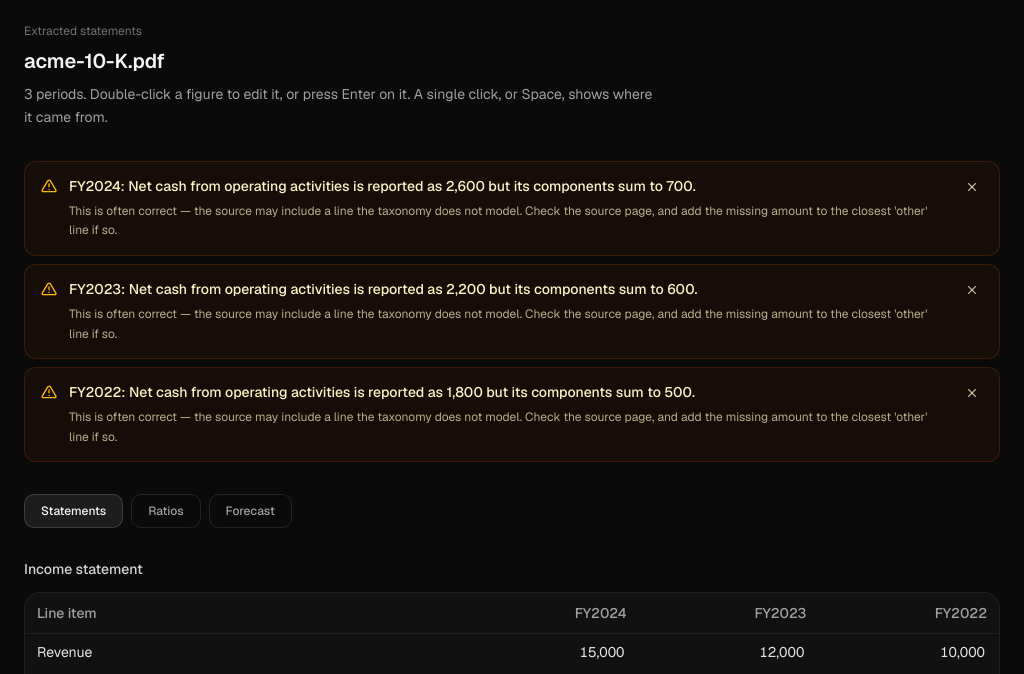
it: what the forecast's own findings say › lets an info finding be dismissed, which nothing could reach before
The width and height of the screenshot is (1024, 674).
Click the tab "Forecast" at (250, 511), box [209,494,292,528]
(page scrolled)
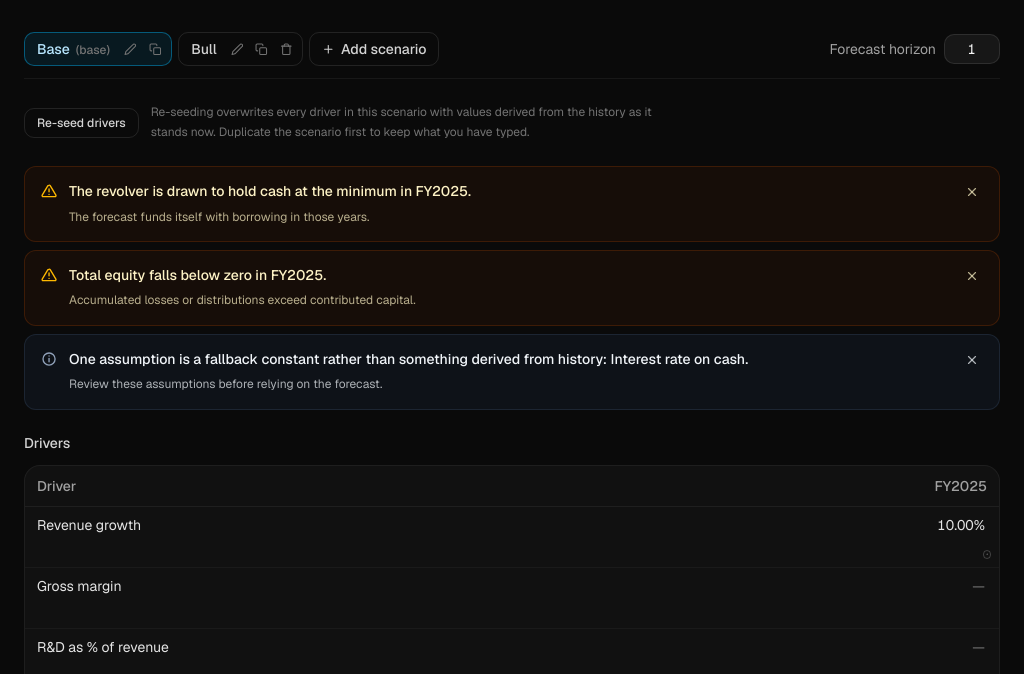
expect the text "One assumption is a fallback constant" is shown: met, box [69,350,748,368]
Click the 3rd button named "Dismiss" at (972, 360), box [961,349,983,371]
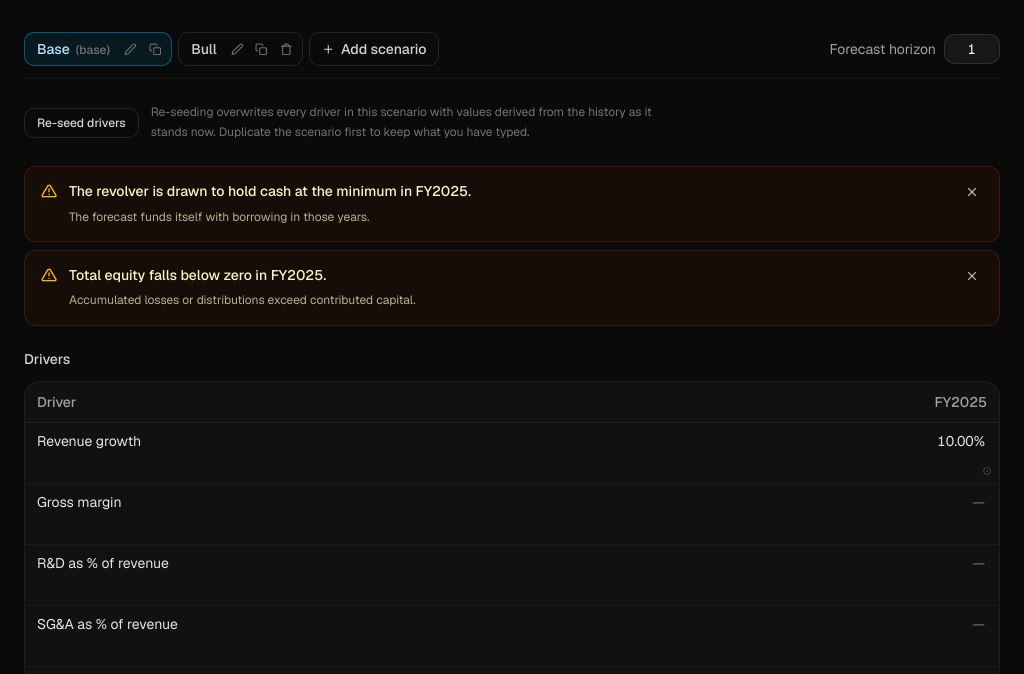
expect the text "Total equity falls below zero in FY2025." is shown: met, box [69,266,326,285]
expect the text "One assumption is a fallback constant" is gone: met
